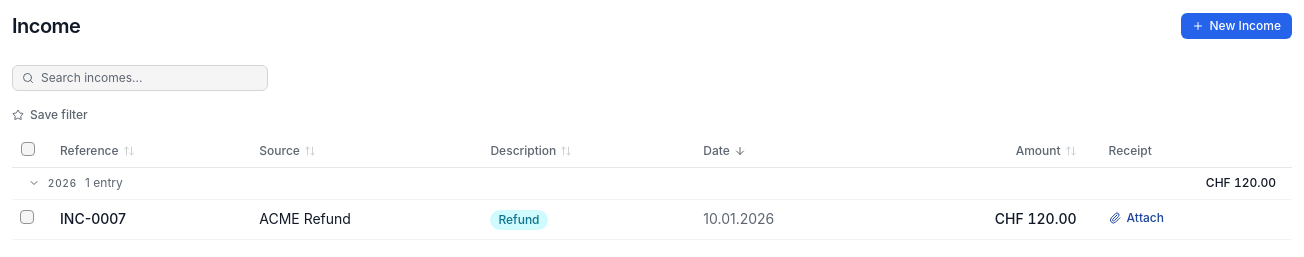
Test: Income row menu › offers Edit and Delete in the row context menu
The image size is (1304, 257).
Right-click the text "ACME Refund" at (652, 219), box top-left (12, 199), bottom-right (1292, 239)
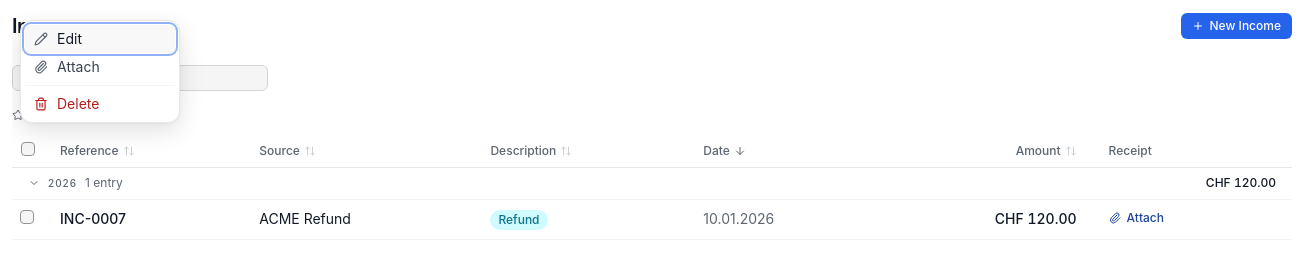
Now the menu item "Edit" is shown, box top-left (25, 25), bottom-right (175, 53)
Now the menu item "Delete" is shown, box top-left (25, 90), bottom-right (175, 118)
